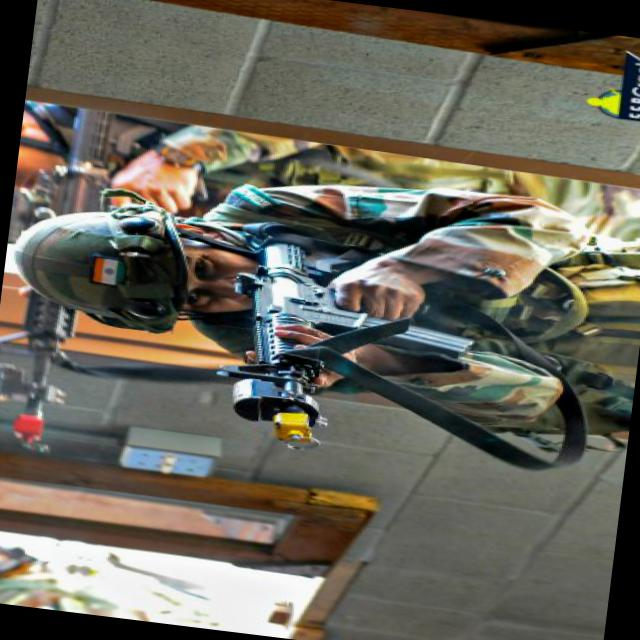long weapon: (223, 217, 468, 476)
